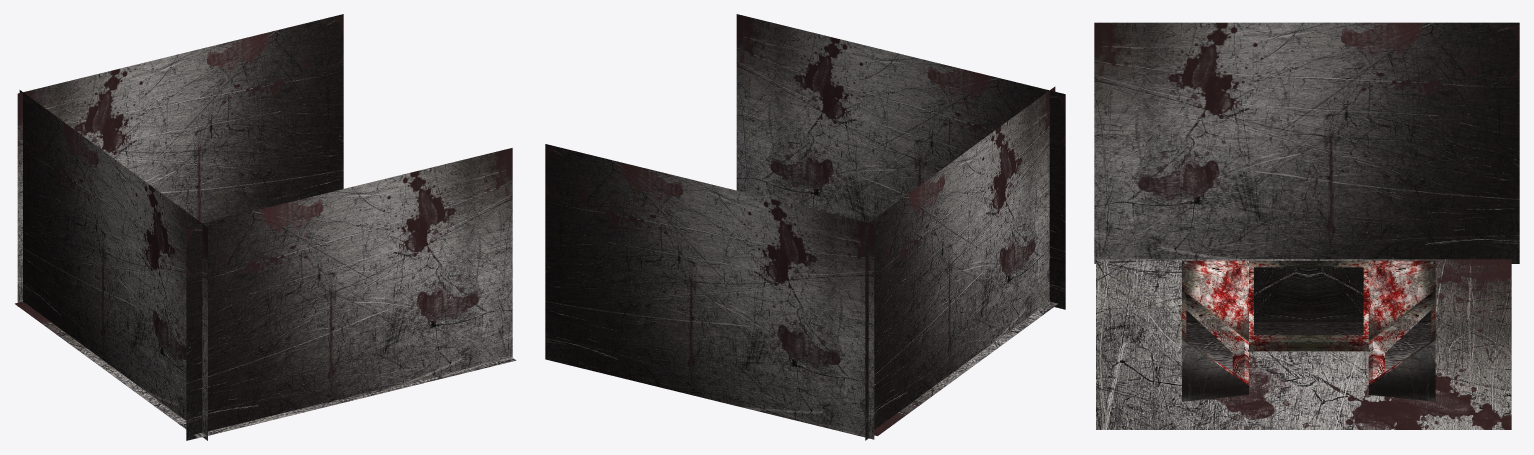
The model's file is Internal Darkness Table.fbx.
3 renders of one model, left to right at view 1: azimuth 30°, elevation 25°; view 2: azimuth 150°, elevation 25°; view 3: azimuth 270°, elevation 25°, orthographic. The views are drawn at different scales.
Parts seen in each view (by area): view 1: Plane, Plane.003, Plane.002, Plane.001; view 2: Plane.003, Plane, Plane.002, Plane.001; view 3: Plane.002, Plane.001, Cube.
Boxes of the visible parts, box(x1,y1,x2,y2) form: Plane: box(186, 148, 512, 440); Plane.003: box(17, 14, 343, 306); Plane.002: box(19, 90, 207, 440); Plane.001: box(15, 301, 516, 438); Plane.003: box(545, 144, 874, 439); Plane: box(736, 14, 1065, 309); Plane.002: box(865, 86, 1055, 440); Plane.001: box(874, 301, 1058, 435); Plane.002: box(1094, 22, 1519, 263); Plane.001: box(1096, 259, 1511, 429); Cube: box(1182, 260, 1435, 401).
Size of the model in its own units: 1660 by 1007 by 1608.
